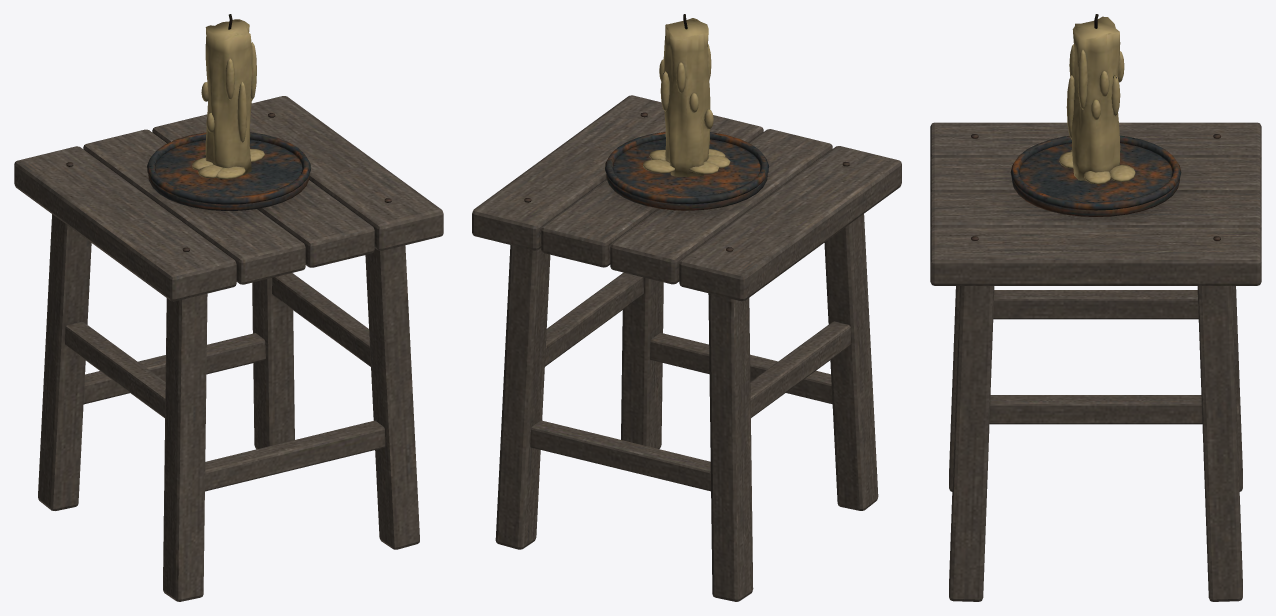
Rendered from candle-stool.glb.
3 views of the same model, side by side, from view 1: azimuth 30°, elevation 25°; view 2: azimuth 150°, elevation 25°; view 3: azimuth 270°, elevation 25° (orthographic). The views are drawn at different scales.
Visible parts, largest first — view 1: candle-stool; view 2: candle-stool; view 3: candle-stool.
Boxes of the visible parts, <box> form: candle-stool: <box>14,14,443,601</box>; candle-stool: <box>472,14,901,601</box>; candle-stool: <box>930,14,1261,601</box>.
Bounding box in the file's own units: 0.515 × 0.9165 × 0.52.
Materials: 1 (1 with a texture image).
